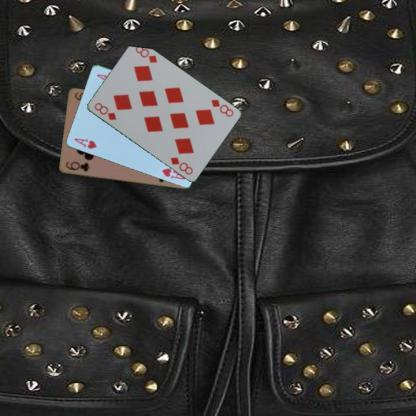6c: (64, 159, 90, 173)
8d: (208, 96, 235, 118), (92, 100, 118, 122)
Ah: (72, 136, 98, 150)
